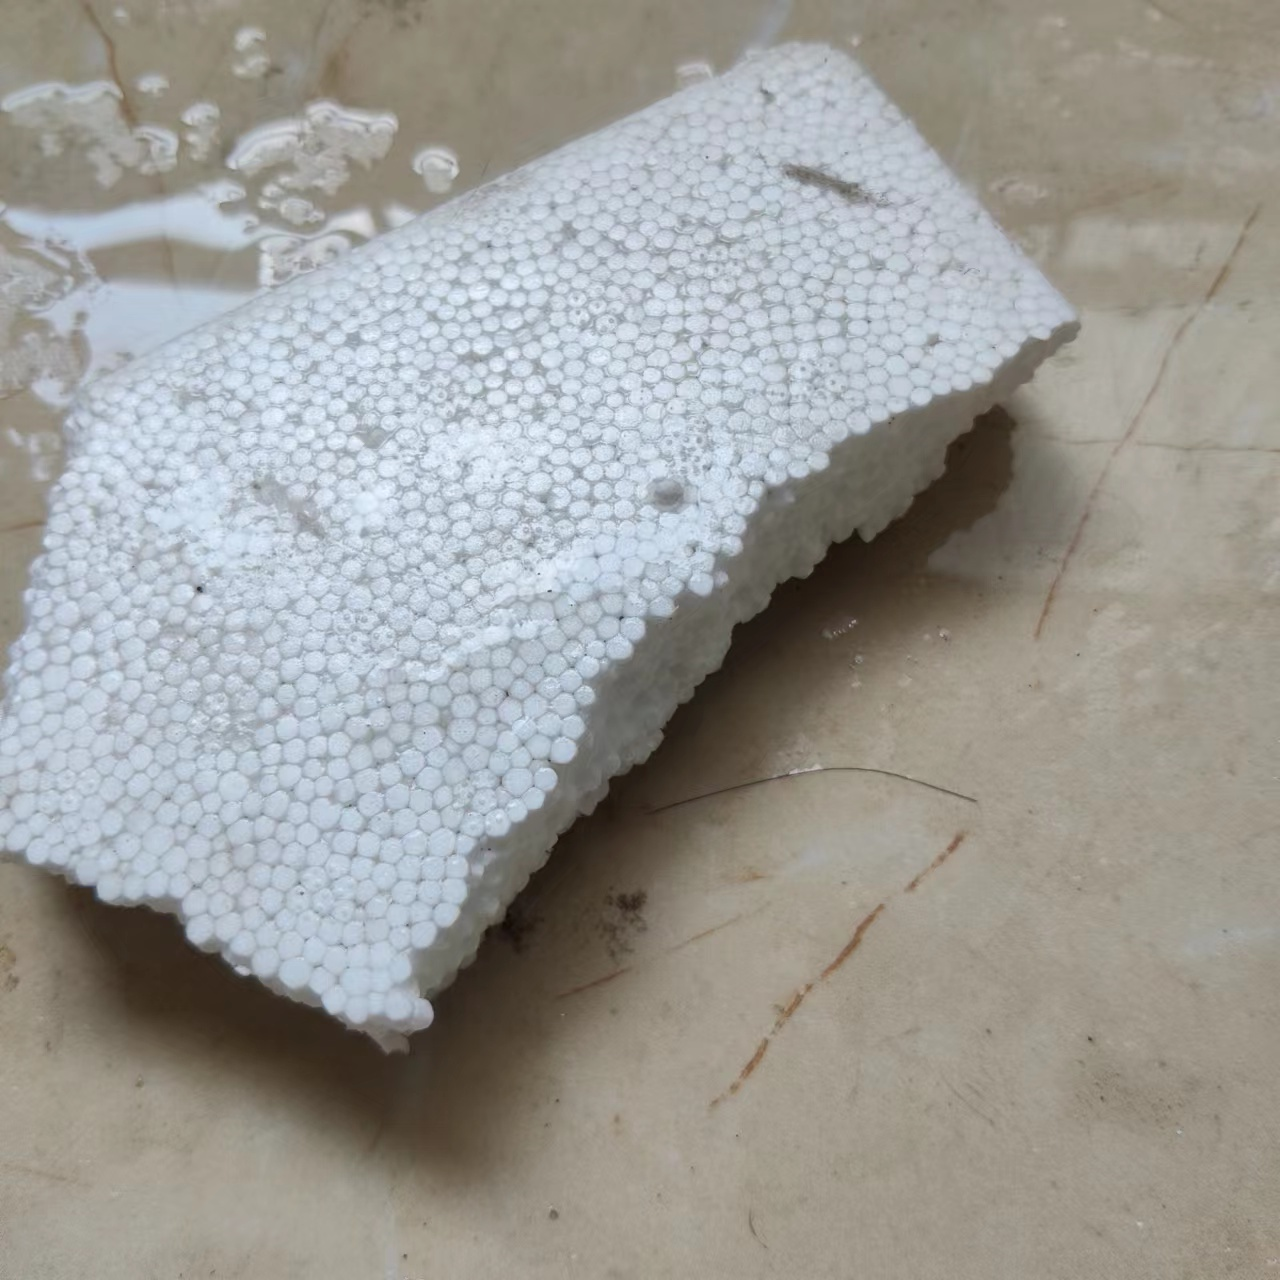5/可回收垃圾/泡沫: (1, 45, 1084, 1057)
